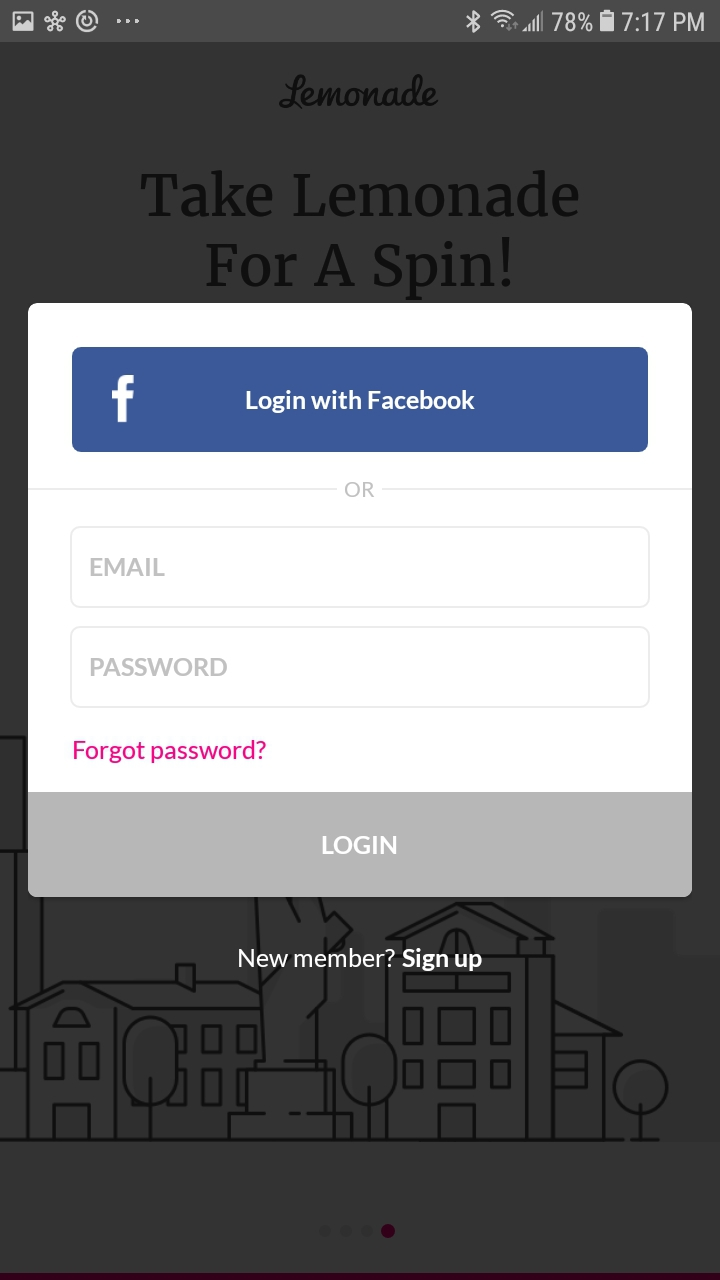EditText: (71, 626, 651, 709), (70, 526, 650, 609)
Icon: (112, 375, 136, 423)
Modal: (29, 304, 693, 898)
PageIndicator: (318, 1224, 396, 1239)
Text: (141, 170, 579, 301), (239, 947, 483, 972), (279, 74, 440, 111), (74, 739, 267, 765), (90, 657, 228, 677), (92, 557, 167, 578), (345, 483, 375, 498)
TextButton: (28, 792, 692, 898), (72, 347, 649, 453)
UpperTaskBar: (1, 1, 720, 44)
